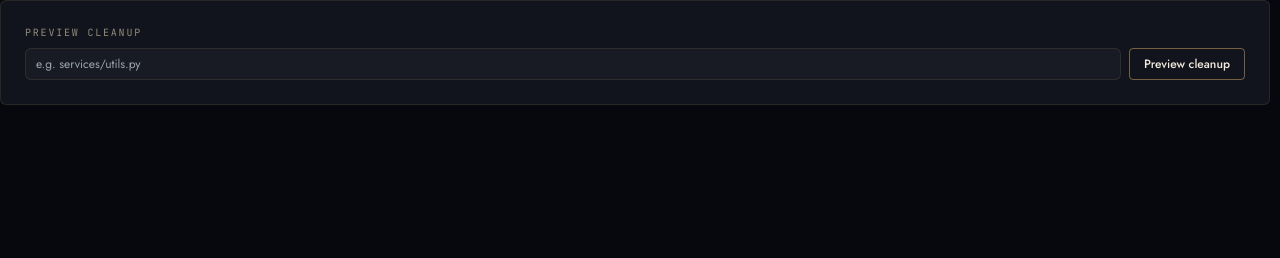
Test: Ticket F-UI · SimplifyFilePanel › previews a clean simplify and shows a colorized diff
In the field with test id "simplify-file-path-input": (573, 64) top-left (25, 48), bottom-right (1121, 80), type "services/x.py"
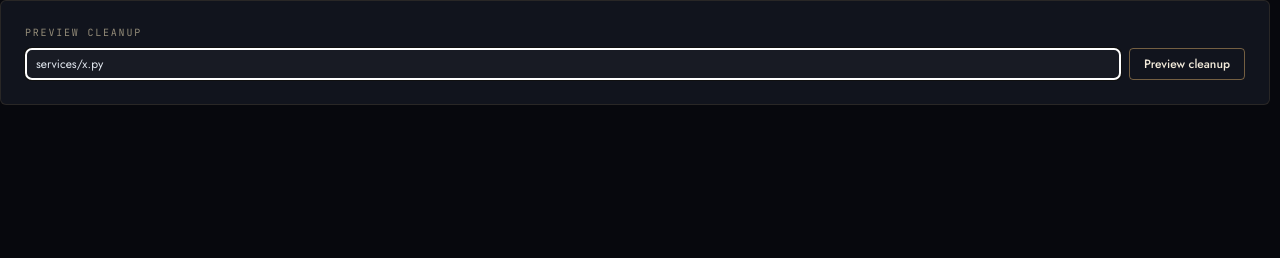
Click the button with test id "simplify-file-preview-btn": click(1187, 64) top-left (1129, 48), bottom-right (1245, 80)
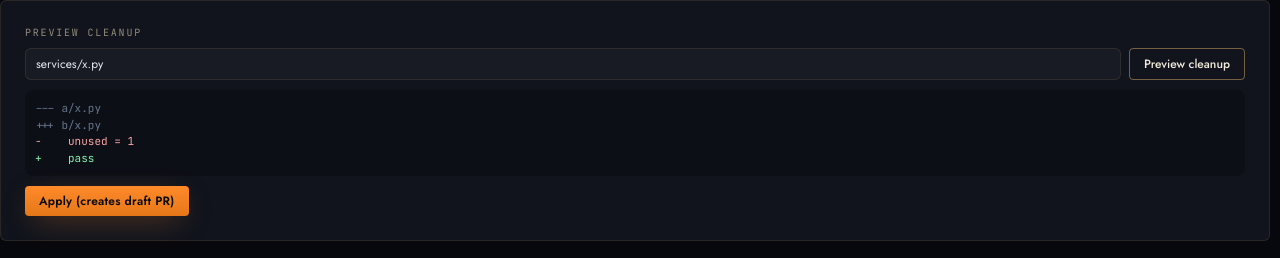
Check: the element with test id "simplify-file-diff" is shown, box top-left (25, 90), bottom-right (1245, 176)
Check: the element with test id "simplify-file-diff" shows "unused = 1", box top-left (35, 134), bottom-right (134, 148)
Check: the button with test id "simplify-apply-btn" is shown, box top-left (25, 186), bottom-right (188, 216)
